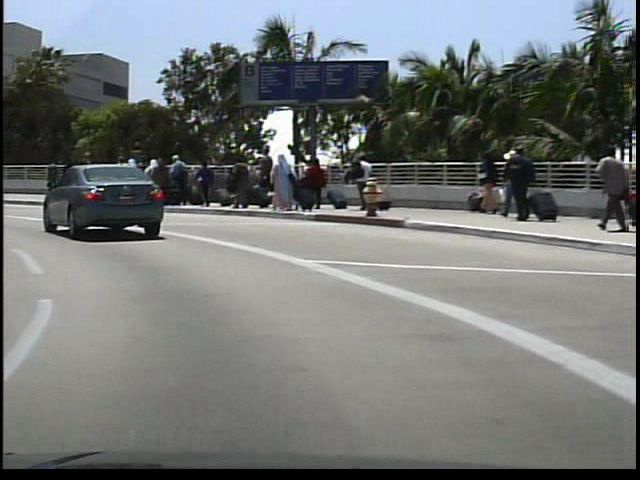person: (591, 143, 623, 232), (499, 144, 531, 222), (54, 152, 81, 211), (348, 150, 374, 210), (73, 150, 98, 206), (43, 159, 60, 194)
